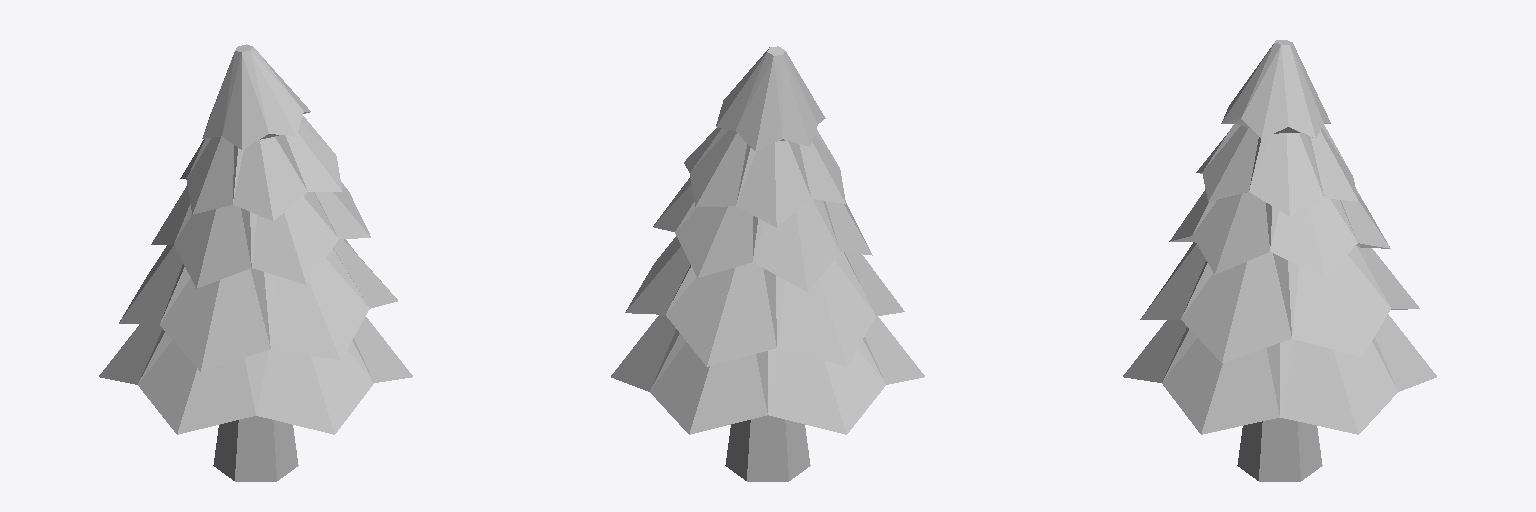
Rendered from pine.obj.
3 views of the same model, side by side, from view 1: azimuth 30°, elevation 25°; view 2: azimuth 150°, elevation 25°; view 3: azimuth 270°, elevation 25° (orthographic).
Visible parts, largest first — view 1: pine; view 2: pine; view 3: pine.
Boxes of the visible parts, x1=… form: pine: x1=99, y1=44, x2=412, y2=481; pine: x1=611, y1=46, x2=924, y2=481; pine: x1=1123, y1=40, x2=1436, y2=481.
Bounding box in the file's own units: 3.87 × 6.55 × 4.47.